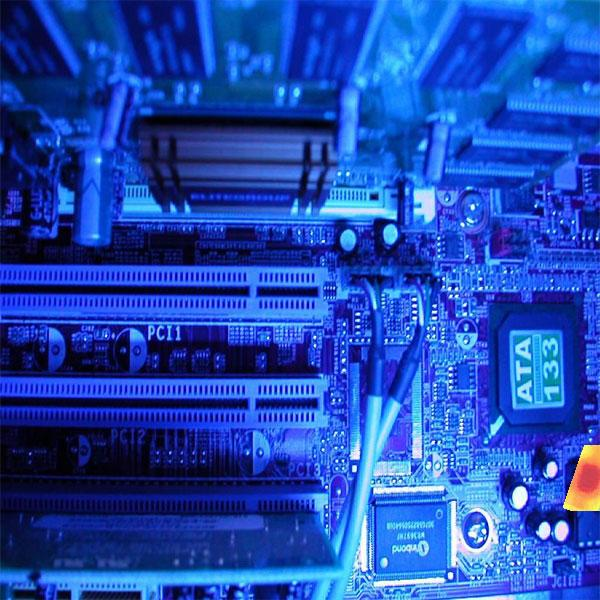componente_T: (561, 440, 600, 519)
